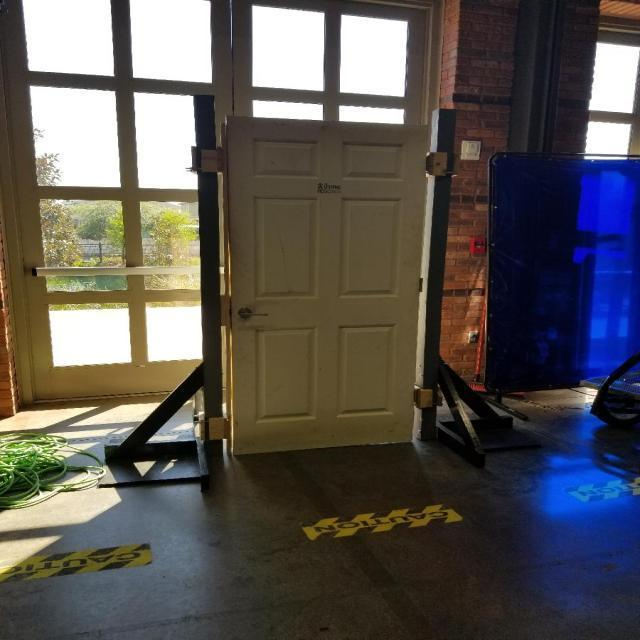door: (222, 113, 433, 460), (236, 307, 274, 322)
